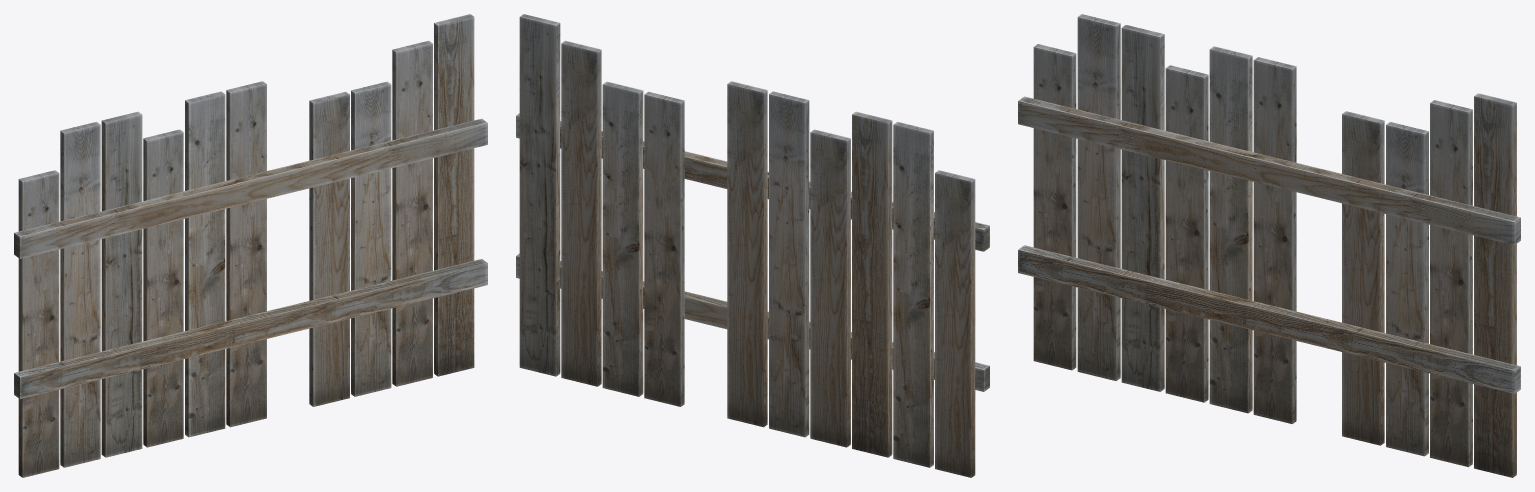
The model's file is hedgeWoodHighB.FBX.
3 views of the same model, side by side, from view 1: azimuth 30°, elevation 25°; view 2: azimuth 150°, elevation 25°; view 3: azimuth 330°, elevation 25° (orthographic). The views are drawn at different scales.
Parts seen in each view (by area): view 1: hedgeWoodHighB; view 2: hedgeWoodHighB; view 3: hedgeWoodHighB.
Boxes of the visible parts, left/top/right/bottom form: hedgeWoodHighB: left=14, top=14, right=487, bottom=477; hedgeWoodHighB: left=516, top=14, right=989, bottom=477; hedgeWoodHighB: left=1018, top=14, right=1520, bottom=477.
Size of the model in its own units: 103 by 73.46 by 3.75.
